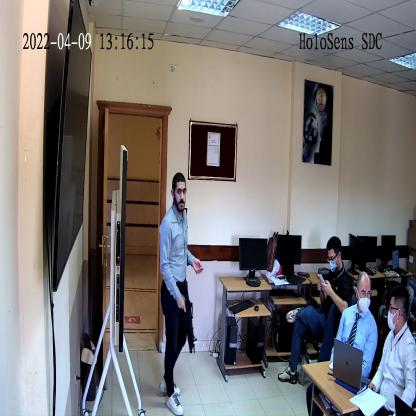handgun: (178, 283, 198, 355)
